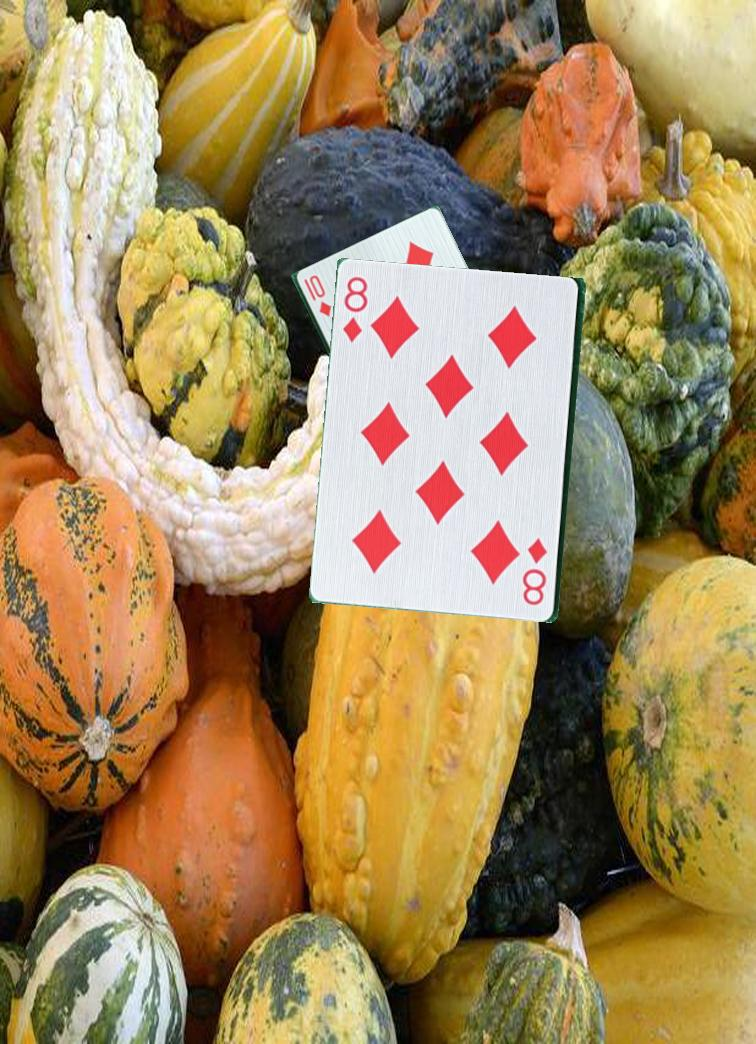8d: (339, 273, 372, 346), (522, 535, 551, 616)
td: (301, 275, 335, 325)
